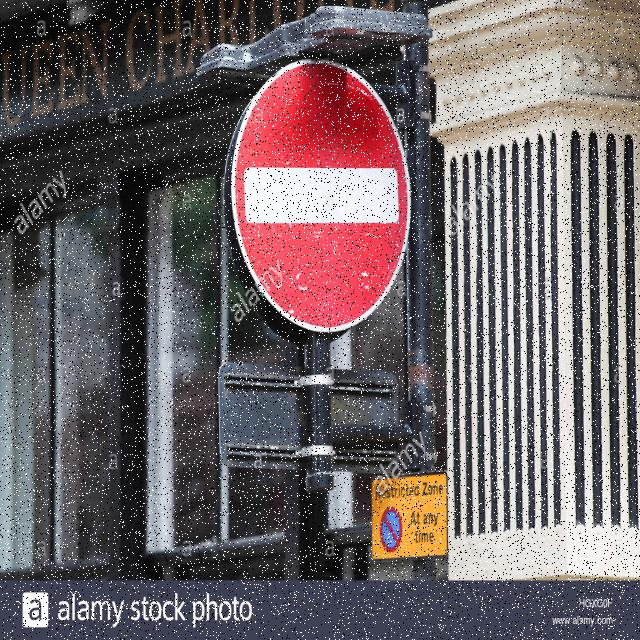no entry: (231, 59, 412, 336)
